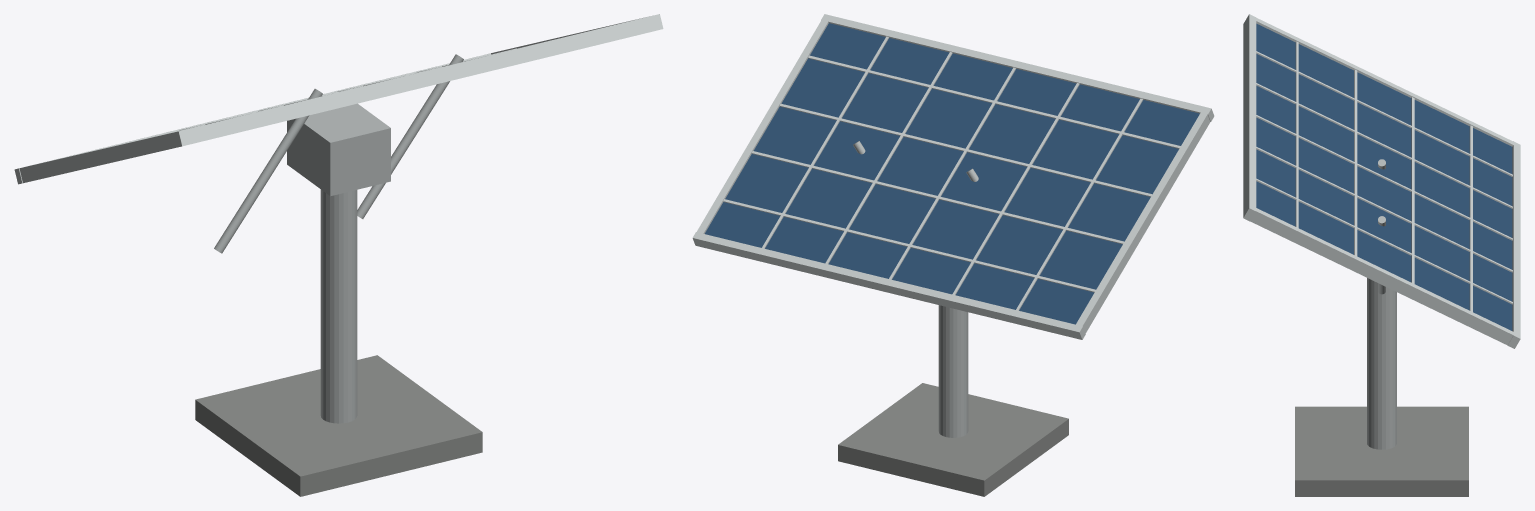
The model's file is solar.glb.
The picture shows the model from 3 angles, left to right: view 1: azimuth 30°, elevation 25°; view 2: azimuth 150°, elevation 25°; view 3: azimuth 270°, elevation 25°; orthographic projection. The views are drawn at different scales.
Parts seen in each view (by area): view 1: Pad, Tracker post, Panel end rail, Gearbox, Panel side rail, Panel strut, Panel strut.001, Panel end rail.001; view 2: Panel, Pad, Panel end rail.001, Tracker post, Panel side rail, Panel end rail, Panel side rail.001, Cell row.001, Cell row.003, Cell row, Cell row.002, Cell divider (+4 smaller); view 3: Panel, Pad, Tracker post, Panel side rail.001, Panel end rail, Panel end rail.001, Panel side rail, Cell divider.004, Cell divider.002, Cell divider.003, Cell divider, Cell divider.001 (+4 smaller).
Boxes of the visible parts, box(x1,y1,x2,y2) form: Pad: box(195, 355, 482, 496); Tracker post: box(320, 189, 357, 423); Panel end rail: box(174, 14, 663, 147); Gearbox: box(287, 103, 390, 196); Panel side rail: box(19, 132, 177, 183); Panel strut: box(214, 88, 322, 253); Panel strut.001: box(357, 54, 463, 218); Panel end rail.001: box(14, 53, 490, 184); Panel: box(705, 23, 1199, 324); Pad: box(838, 383, 1068, 496); Panel end rail.001: box(692, 232, 1085, 339); Tracker post: box(938, 305, 968, 437); Panel side rail: box(1074, 111, 1210, 332); Panel end rail: box(821, 14, 1214, 121); Panel side rail.001: box(696, 16, 829, 233); Cell row.001: box(779, 103, 1152, 196); Cell row.003: box(723, 199, 1095, 292); Cell row: box(808, 55, 1180, 148); Cell row.002: box(751, 151, 1124, 244); Cell divider: box(1016, 98, 1143, 310); Panel: box(1256, 23, 1512, 330); Pad: box(1295, 406, 1468, 496); Tracker post: box(1367, 278, 1396, 449); Panel side rail.001: box(1251, 208, 1513, 345); Panel end rail: box(1243, 14, 1256, 221); Panel end rail.001: box(1507, 141, 1520, 348); Panel side rail: box(1251, 16, 1519, 147); Cell divider.004: box(1256, 178, 1512, 304); Cell divider.002: box(1256, 115, 1512, 240); Cell divider.003: box(1256, 147, 1512, 272); Cell divider: box(1256, 51, 1512, 176); Cell divider.001: box(1256, 83, 1512, 208).
Bounding box in the file's own units: 3.96 × 3.32 × 2.39.
